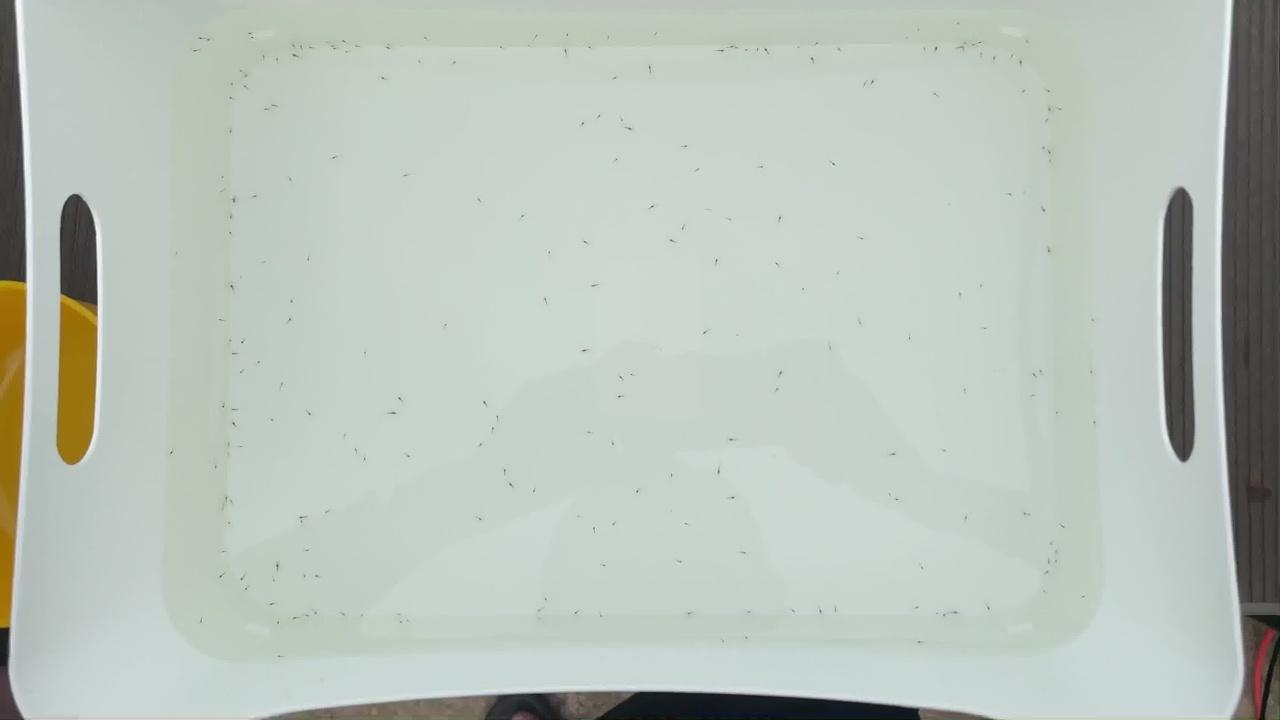shrimp: (981, 600, 994, 608), (914, 634, 927, 642), (742, 550, 755, 558), (725, 434, 738, 442), (1087, 423, 1100, 431), (1028, 373, 1041, 381), (1087, 368, 1100, 376), (939, 445, 952, 453), (1040, 85, 1053, 93), (914, 30, 927, 38), (753, 46, 766, 54), (726, 41, 739, 49), (830, 162, 843, 170), (611, 74, 624, 82), (651, 30, 664, 38), (583, 46, 596, 54), (496, 41, 509, 49), (288, 41, 301, 49), (284, 174, 297, 182), (329, 152, 342, 160), (515, 213, 528, 221), (580, 240, 593, 248), (667, 473, 680, 481), (474, 511, 487, 519), (487, 428, 500, 436), (492, 412, 505, 420), (338, 434, 351, 442), (356, 611, 369, 619), (300, 611, 313, 619), (271, 617, 284, 625), (299, 545, 312, 553), (228, 501, 241, 509), (239, 440, 252, 448), (266, 417, 279, 425), (284, 318, 297, 326), (790, 606, 802, 614), (1089, 318, 1101, 326), (889, 450, 901, 458), (978, 323, 990, 331), (795, 46, 807, 54), (717, 46, 729, 54), (646, 202, 658, 210), (385, 46, 397, 54), (474, 196, 486, 204), (541, 295, 553, 303), (541, 594, 553, 602), (402, 611, 414, 619), (1038, 587, 1051, 594), (1039, 571, 1052, 578), (1043, 556, 1056, 563), (1050, 548, 1063, 555), (1046, 542, 1059, 549), (1056, 525, 1069, 532), (1018, 511, 1031, 518), (960, 513, 973, 520), (949, 611, 962, 618), (940, 612, 953, 619), (932, 613, 945, 620), (914, 600, 927, 607), (915, 565, 928, 572), (814, 610, 827, 617), (741, 636, 754, 643), (683, 612, 696, 619), (674, 558, 687, 565), (679, 519, 692, 526), (728, 496, 741, 503), (715, 469, 728, 476), (1050, 405, 1063, 412), (1029, 391, 1042, 398), (1035, 372, 1048, 379), (960, 384, 973, 391), (893, 493, 906, 500), (775, 365, 788, 372), (733, 330, 746, 337), (823, 341, 836, 348), (853, 318, 866, 325), (902, 332, 915, 339), (955, 293, 968, 300), (976, 284, 989, 291), (1043, 249, 1056, 256), (1037, 205, 1050, 212), (1019, 187, 1032, 194), (1045, 147, 1058, 154), (1035, 144, 1048, 151), (1043, 118, 1056, 125), (1045, 106, 1058, 113), (1053, 103, 1066, 110), (1016, 57, 1029, 64), (1015, 48, 1028, 55), (1021, 40, 1034, 47), (987, 56, 1000, 63), (973, 36, 986, 43), (956, 46, 969, 53), (952, 46, 965, 53), (928, 45, 941, 52), (953, 22, 966, 29), (918, 47, 931, 54), (931, 92, 944, 99), (834, 45, 847, 52), (814, 40, 827, 47), (808, 57, 821, 64), (761, 49, 774, 56), (742, 47, 755, 54), (732, 45, 745, 52), (856, 232, 869, 239), (830, 269, 843, 276), (798, 287, 811, 294), (771, 262, 784, 269), (774, 218, 787, 225), (711, 261, 724, 268), (665, 239, 678, 246), (679, 225, 692, 232), (721, 212, 734, 219), (693, 166, 706, 173), (673, 144, 686, 151), (625, 124, 638, 131), (615, 113, 628, 120), (591, 115, 604, 122), (579, 120, 592, 127), (644, 68, 657, 75), (603, 36, 616, 43), (558, 47, 571, 54), (561, 29, 574, 36), (532, 33, 545, 40), (446, 61, 459, 68), (414, 63, 427, 70), (422, 38, 435, 45), (376, 74, 389, 81), (353, 41, 366, 48), (340, 49, 353, 56), (341, 35, 354, 42), (330, 45, 343, 52), (328, 38, 341, 45), (308, 42, 321, 49), (295, 45, 308, 52), (288, 52, 301, 59), (272, 56, 285, 63), (262, 53, 275, 60), (243, 32, 256, 39), (204, 36, 217, 43), (194, 35, 207, 42), (187, 47, 200, 54), (234, 68, 247, 75), (241, 83, 254, 90), (227, 79, 240, 86), (226, 93, 239, 100), (261, 109, 274, 116), (268, 105, 281, 112), (227, 125, 240, 132), (219, 177, 232, 184), (218, 189, 231, 196), (229, 198, 242, 205), (226, 208, 239, 215), (226, 225, 239, 232), (248, 196, 261, 203), (399, 172, 412, 179), (544, 249, 557, 256), (588, 282, 601, 289), (577, 343, 590, 350), (613, 372, 626, 379), (614, 391, 627, 398), (632, 488, 645, 495), (607, 437, 620, 444), (584, 431, 597, 438), (609, 520, 622, 527), (588, 525, 601, 532), (598, 557, 611, 564), (595, 610, 608, 617), (569, 609, 582, 616), (497, 467, 510, 474), (474, 441, 487, 448), (442, 319, 455, 326), (361, 351, 374, 358), (394, 396, 407, 403), (387, 410, 400, 417), (402, 446, 415, 453), (349, 441, 362, 448), (392, 610, 405, 617), (309, 606, 322, 613), (289, 614, 302, 621), (275, 651, 288, 658), (232, 574, 245, 581), (219, 550, 232, 557), (266, 598, 279, 605), (269, 576, 282, 583), (271, 561, 284, 568), (299, 570, 312, 577), (314, 570, 327, 577), (295, 517, 308, 524), (297, 516, 310, 523), (322, 510, 335, 517), (220, 494, 233, 501), (217, 509, 230, 516), (168, 447, 181, 454), (211, 465, 224, 472), (222, 455, 235, 462), (224, 439, 237, 446), (227, 420, 240, 427), (227, 406, 240, 413), (215, 402, 228, 409), (304, 415, 317, 422), (277, 383, 290, 390), (236, 369, 249, 376), (232, 344, 245, 351), (239, 337, 252, 344), (227, 337, 240, 344), (211, 318, 224, 325), (171, 252, 184, 259), (304, 256, 317, 263), (1078, 594, 1090, 601), (1050, 559, 1062, 566), (829, 603, 841, 610), (745, 609, 757, 616), (718, 640, 730, 647), (934, 691, 946, 698), (884, 491, 896, 498), (773, 388, 785, 395), (701, 329, 713, 336), (1005, 193, 1017, 200), (1045, 158, 1057, 165), (1017, 89, 1029, 96), (1006, 53, 1018, 60), (978, 49, 990, 56), (967, 40, 979, 47), (867, 79, 879, 86), (861, 82, 873, 89), (756, 164, 768, 171), (613, 158, 625, 165), (319, 39, 331, 46), (241, 74, 253, 81), (624, 373, 636, 380), (535, 610, 547, 617), (529, 488, 541, 495), (507, 481, 519, 488), (479, 395, 491, 402), (363, 455, 375, 462), (396, 616, 408, 623), (336, 610, 348, 617), (197, 618, 209, 625), (241, 583, 253, 590), (219, 571, 231, 578), (225, 520, 237, 527), (252, 362, 264, 369), (225, 279, 237, 286), (285, 298, 297, 305)
